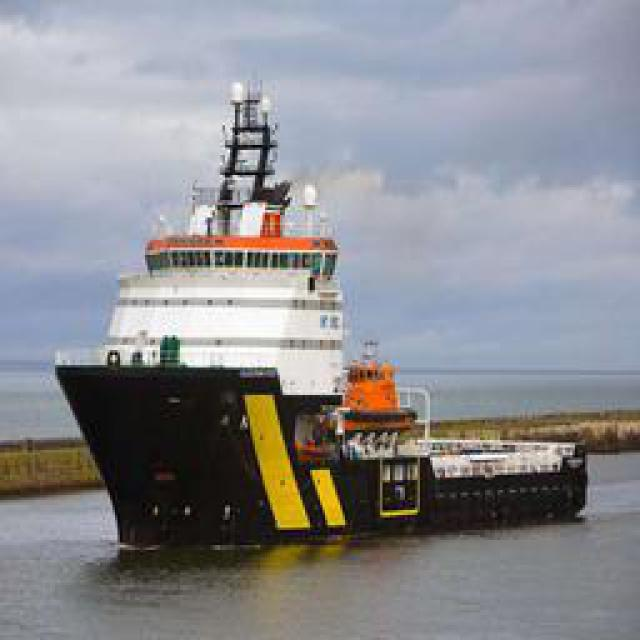Ship: (60, 66, 608, 547)
